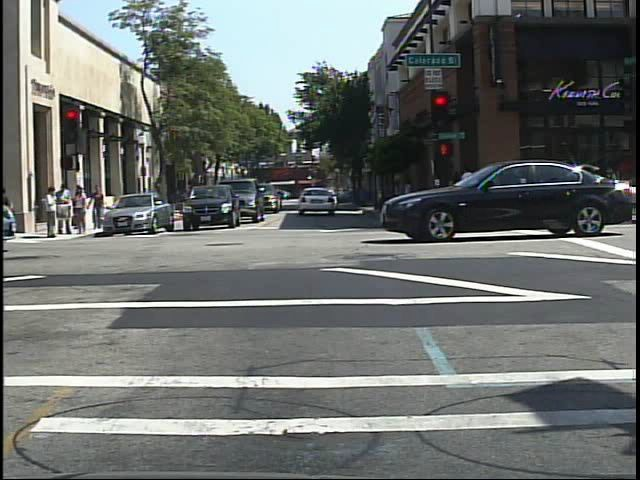person: (75, 185, 89, 229), (138, 183, 155, 215)
